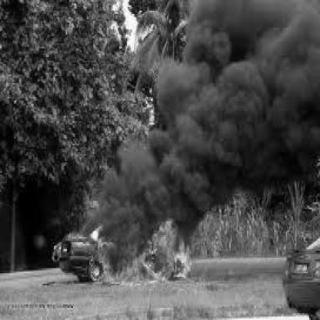Fire: (90, 210, 199, 286)
Smoke: (85, 0, 320, 214)
